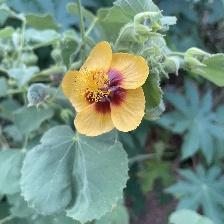indian mallow: (60, 40, 151, 139)
